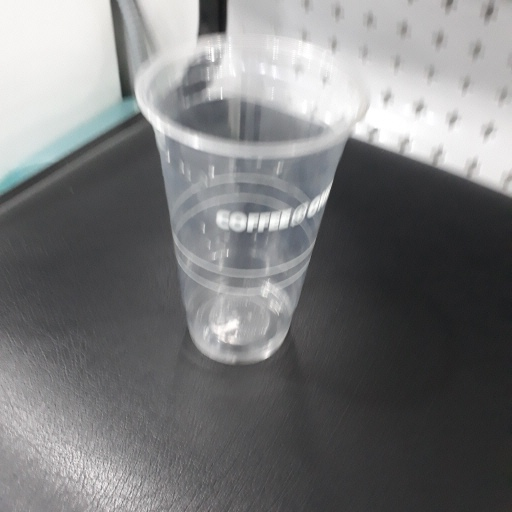Plastic_2: (132, 35, 370, 362)
